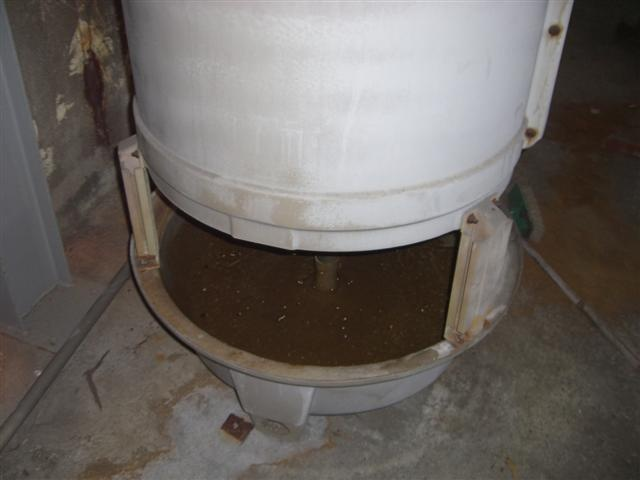water_tower: (121, 1, 576, 422)
